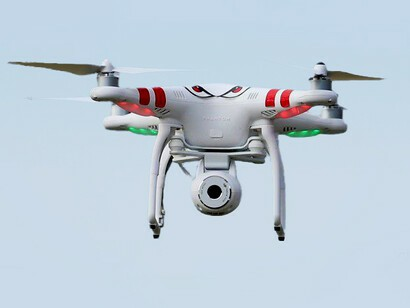maybay_khongnguoilai: (26, 41, 382, 235)
